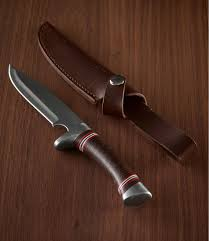knife: (6, 54, 156, 207)
